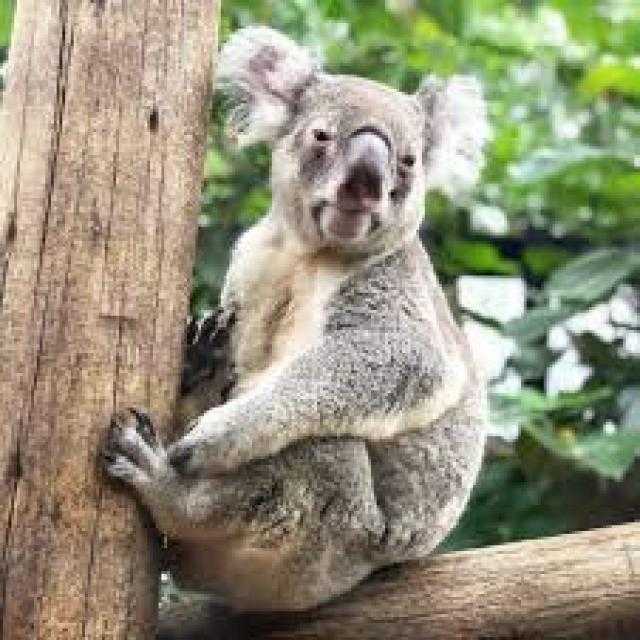koala: (108, 26, 484, 608)
